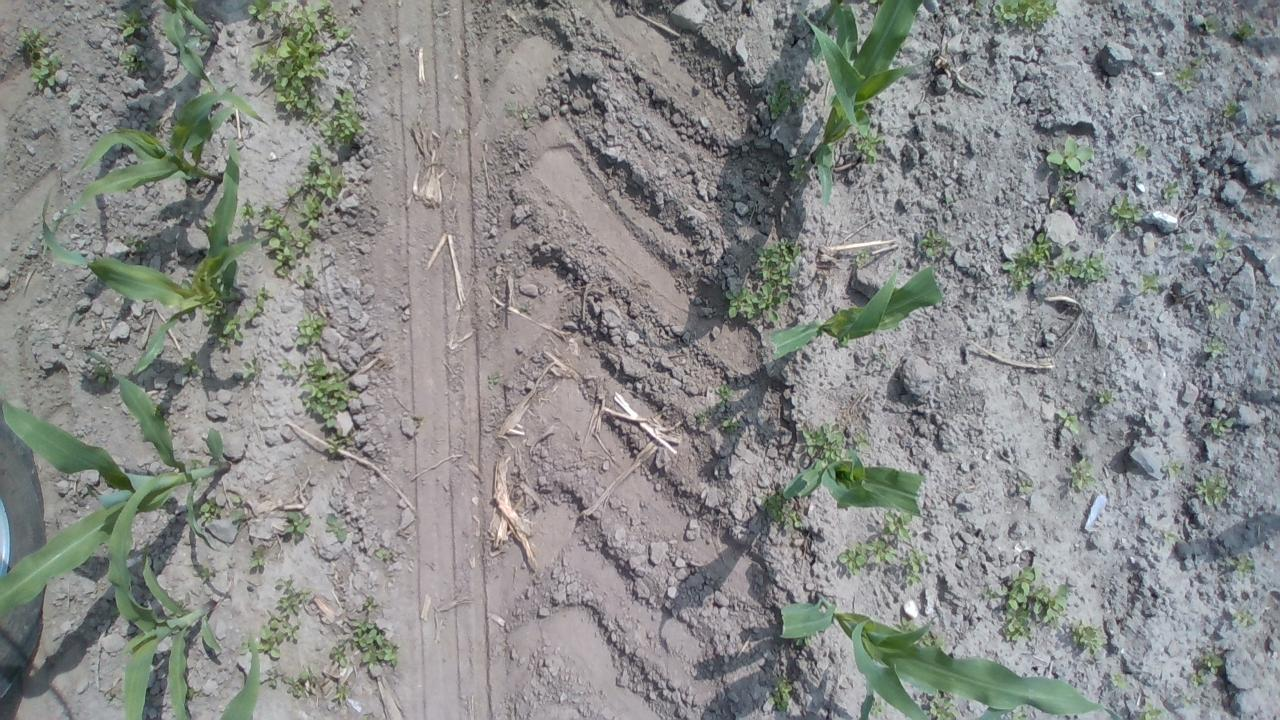Maize: (0, 350, 230, 618), (40, 137, 271, 374), (778, 590, 1127, 720), (41, 86, 273, 258), (794, 0, 939, 204), (106, 471, 222, 720), (768, 261, 948, 360), (160, 0, 272, 128), (783, 450, 927, 521), (810, 0, 860, 104), (209, 634, 261, 720)
Weeds: (246, 0, 336, 126), (1001, 566, 1068, 642), (300, 357, 360, 428), (256, 202, 312, 276), (999, 233, 1052, 292), (16, 25, 62, 91), (724, 282, 791, 324), (320, 90, 366, 148), (302, 142, 346, 202), (351, 618, 402, 669), (837, 538, 898, 577), (253, 610, 300, 660), (755, 236, 801, 286), (1050, 247, 1108, 286), (991, 0, 1060, 32), (1043, 136, 1095, 177), (802, 422, 845, 464), (202, 304, 245, 345), (761, 488, 804, 528), (766, 76, 805, 120), (274, 578, 310, 616), (1070, 618, 1106, 654), (282, 662, 318, 698), (854, 127, 885, 166), (1110, 194, 1142, 231), (1194, 474, 1228, 507), (295, 310, 326, 346), (882, 508, 914, 542), (1172, 57, 1201, 93), (296, 193, 323, 230), (918, 229, 952, 258), (900, 549, 926, 586), (928, 688, 957, 720), (284, 510, 314, 540), (768, 676, 792, 713), (1070, 456, 1096, 490), (118, 8, 146, 38), (192, 496, 221, 524), (246, 288, 269, 322), (1054, 408, 1082, 434), (324, 512, 348, 542), (1229, 552, 1255, 579), (118, 46, 146, 70), (913, 628, 944, 649), (92, 364, 114, 392), (1214, 231, 1234, 260), (789, 156, 810, 182), (330, 637, 348, 667), (151, 401, 171, 428), (1208, 417, 1236, 436), (890, 616, 919, 634), (505, 102, 532, 121), (328, 428, 348, 452), (228, 492, 244, 522), (718, 416, 744, 434), (714, 384, 734, 407), (122, 234, 146, 253), (248, 546, 267, 570), (1140, 701, 1164, 720), (1232, 607, 1256, 626), (1206, 301, 1231, 319), (180, 352, 200, 374), (330, 23, 353, 42), (1202, 654, 1224, 673), (240, 358, 260, 378), (1204, 338, 1224, 358), (1139, 273, 1160, 292), (853, 429, 871, 451), (237, 201, 255, 222), (1233, 20, 1254, 38), (1162, 180, 1180, 201), (296, 266, 316, 284), (164, 601, 188, 616), (1062, 185, 1079, 206), (1110, 670, 1128, 689), (286, 186, 299, 212), (332, 685, 350, 703), (279, 356, 296, 375), (869, 700, 886, 718), (855, 248, 870, 268), (1262, 181, 1280, 197), (1132, 140, 1146, 160), (1203, 16, 1219, 33), (1010, 704, 1027, 720), (876, 350, 891, 368), (980, 586, 999, 600), (1162, 530, 1178, 546), (1098, 390, 1114, 406), (1191, 669, 1205, 687), (362, 594, 377, 610), (1222, 102, 1237, 118), (194, 30, 210, 44), (694, 408, 708, 424), (238, 636, 250, 654), (1167, 461, 1182, 475), (186, 686, 202, 699), (1019, 480, 1034, 493), (266, 669, 278, 685), (488, 372, 500, 388), (198, 564, 209, 581), (146, 120, 159, 134), (794, 636, 811, 646), (1180, 243, 1196, 253), (203, 216, 214, 230), (187, 458, 201, 469), (374, 548, 388, 558), (973, 0, 984, 12), (108, 692, 116, 700), (944, 196, 951, 202), (868, 0, 878, 4)
